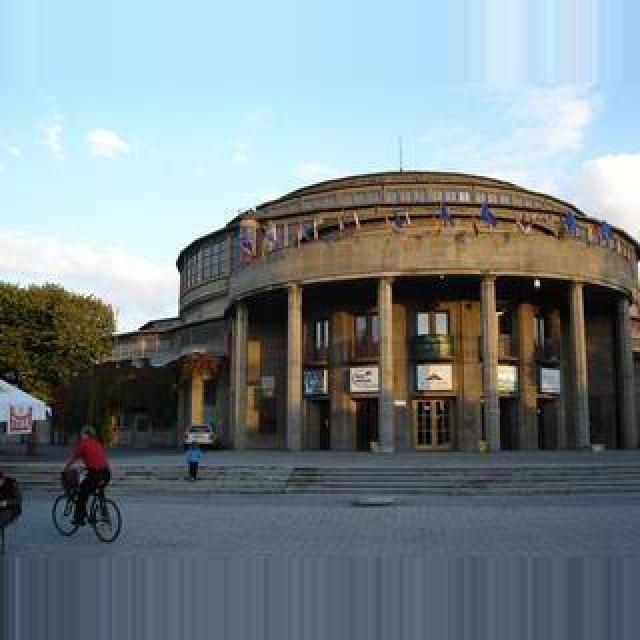Bus-Bike: (184, 424, 220, 448)
MC-Bike: (62, 426, 112, 526), (184, 442, 202, 480)
Person: (51, 471, 121, 543)
